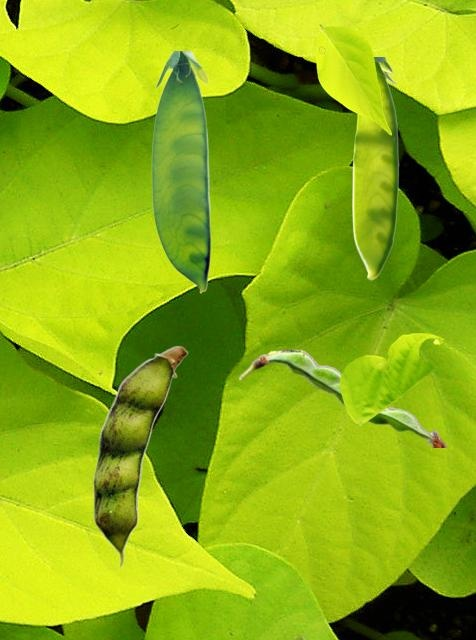pea: (93, 345, 187, 567), (239, 349, 446, 446), (151, 51, 209, 292), (352, 57, 398, 279)
